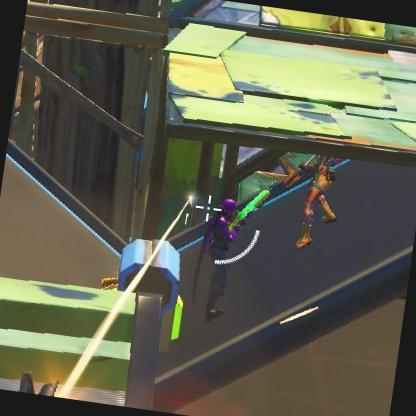person: (182, 194, 262, 340), (304, 164, 332, 248)
